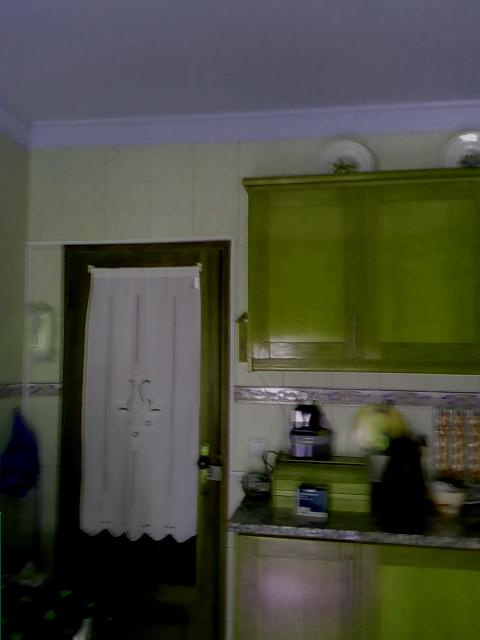closed_door: (58, 238, 233, 638)
